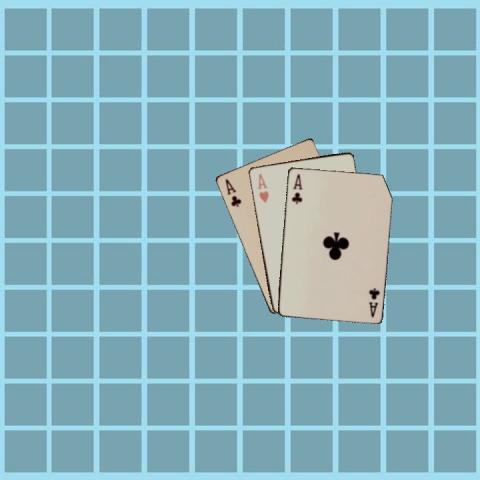Ac: (222, 176, 242, 208), (366, 285, 381, 318), (289, 170, 303, 204)
Ah: (255, 171, 269, 204)
